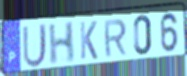0: (132, 14, 152, 57)
6: (159, 11, 179, 54)
H: (47, 20, 75, 67)
K: (78, 20, 99, 61)
R: (103, 18, 128, 59)
U: (21, 22, 48, 69)
